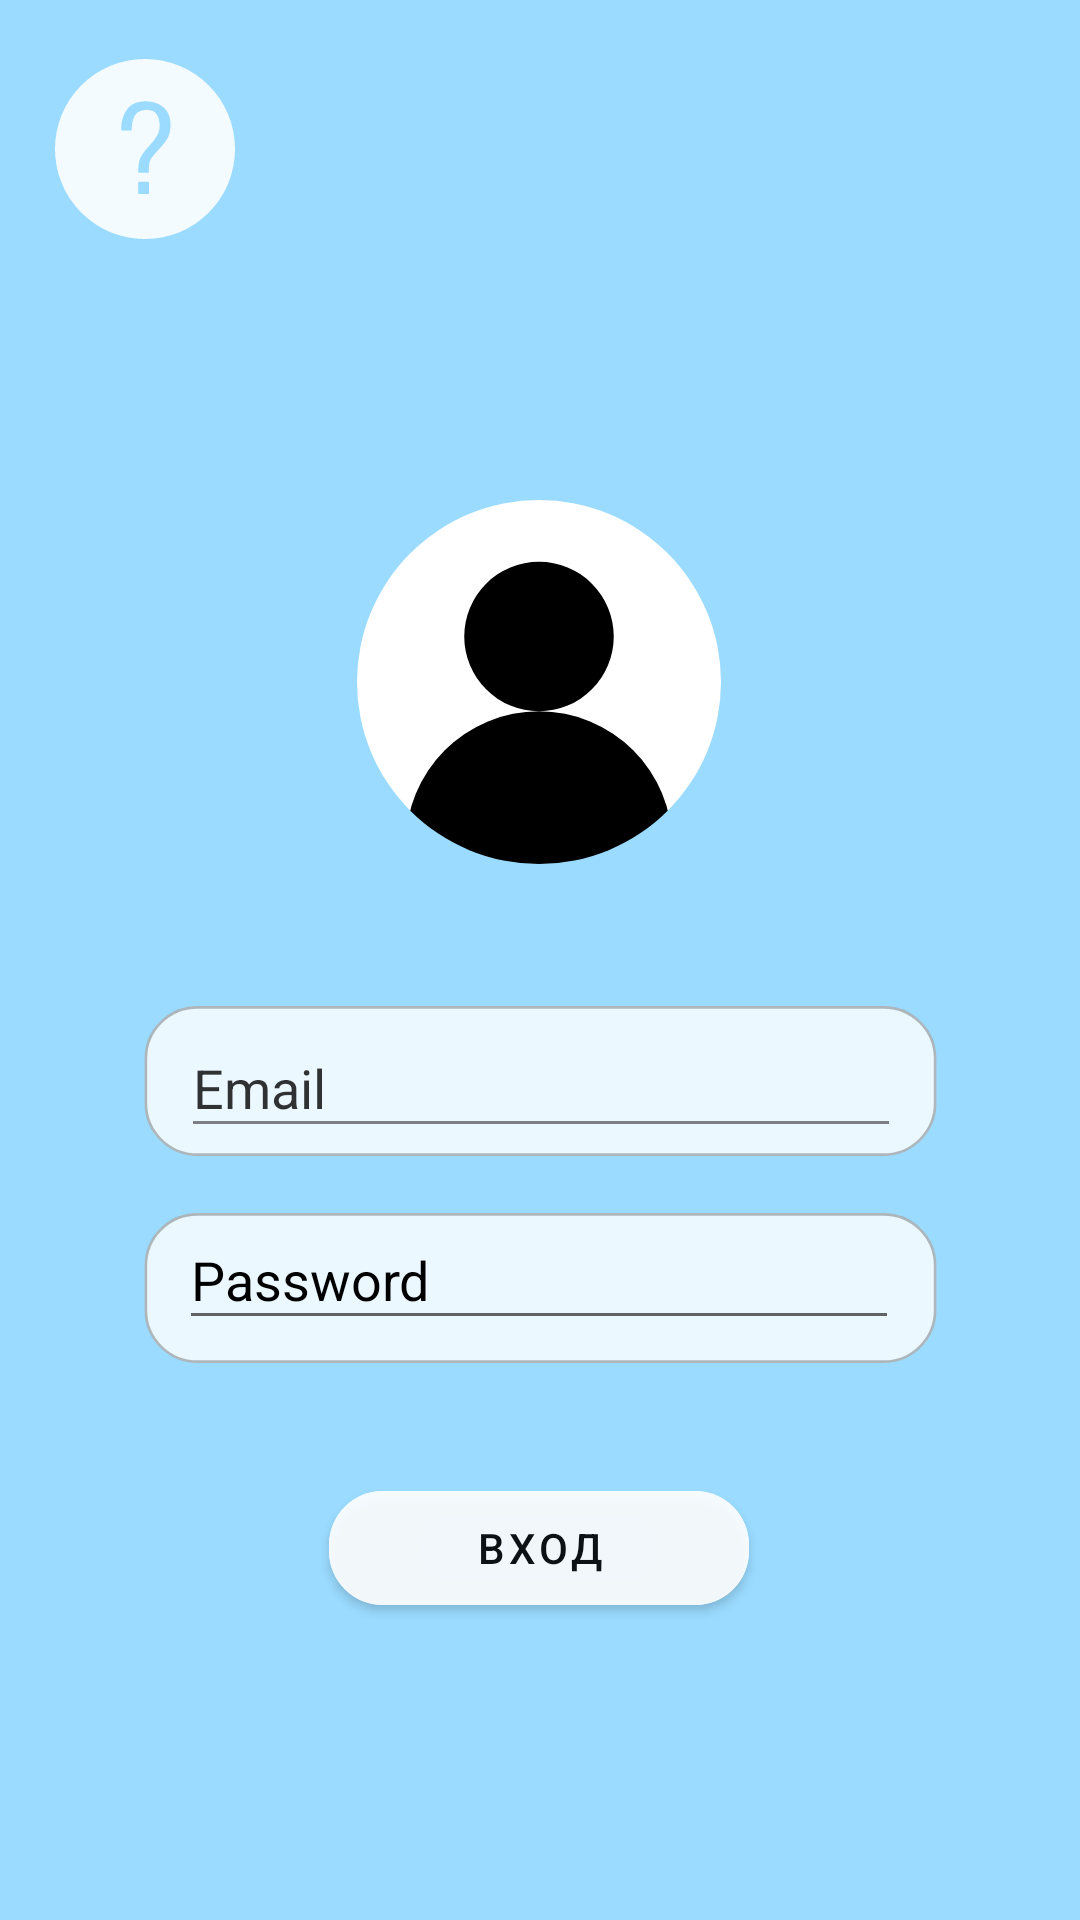

Icon bounding boxes for this 1080 × 1920 phone screenshot, format [left=x1, top=y1, right=x2, bottom=y2]:
question mark sign: [left=55, top=59, right=235, bottom=239]
